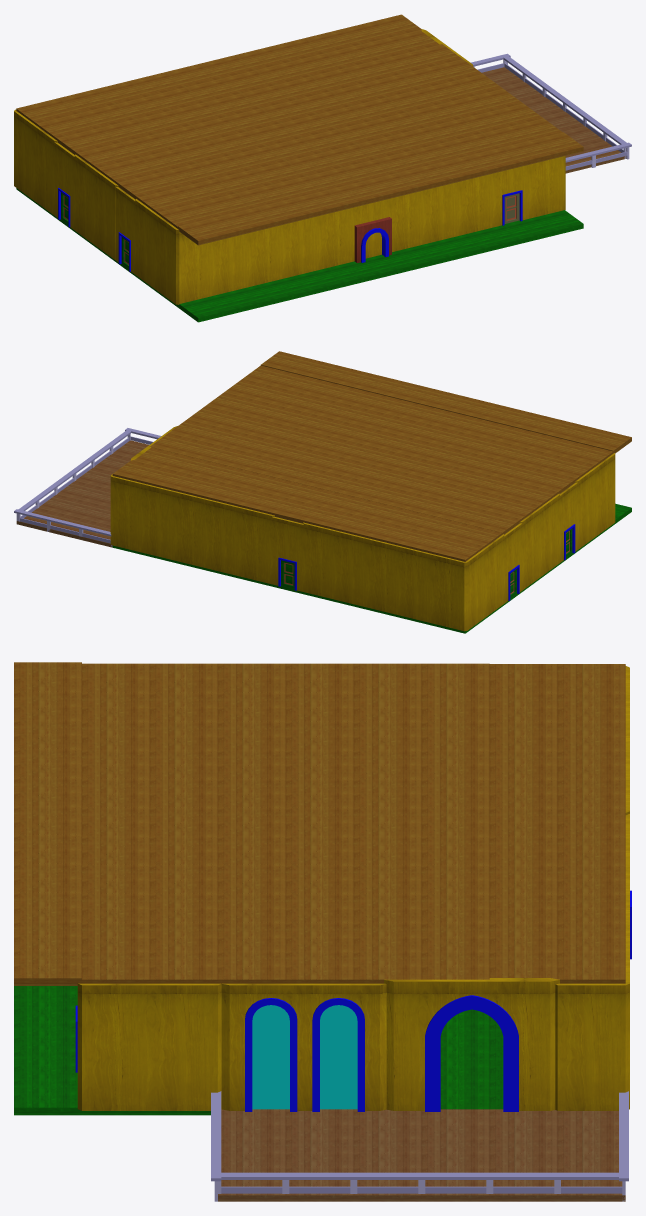
Rendered from party_room.glb.
The picture shows the model from 3 angles, top to bottom: view 1: azimuth 30°, elevation 25°; view 2: azimuth 150°, elevation 25°; view 3: azimuth 270°, elevation 25°; orthographic projection. The views are drawn at different scales.
Visible parts, largest first — view 1: mergedBlocks(Clone); view 2: mergedBlocks(Clone); view 3: mergedBlocks(Clone).
Boxes of the visible parts, left/top/right/bottom form: mergedBlocks(Clone): left=14, top=14, right=631, bottom=322; mergedBlocks(Clone): left=14, top=351, right=631, bottom=633; mergedBlocks(Clone): left=14, top=662, right=631, bottom=1201.
Size of the model in its own units: 56.57 by 8.89 by 36.37.
Materials: 13 (5 with a texture image).
